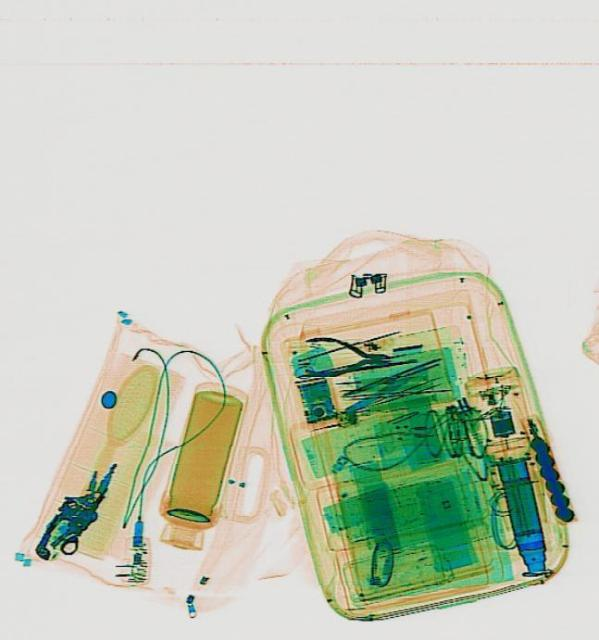Pliers: (302, 334, 390, 380)
